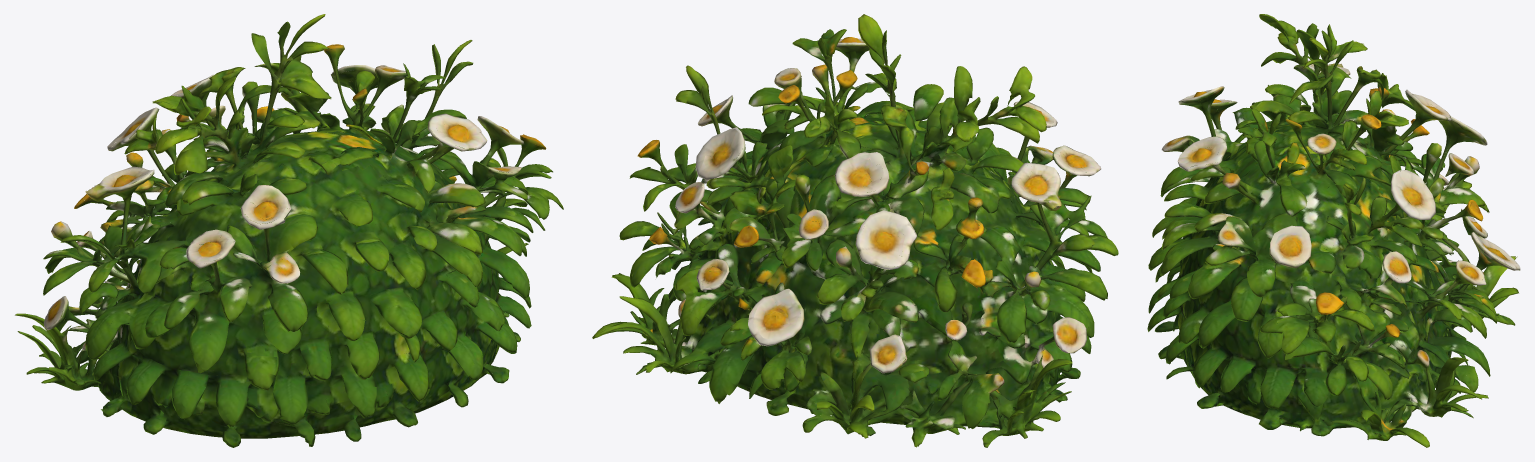
The model's file is flowering-shrub.glb.
The picture shows the model from 3 angles, left to right: view 1: azimuth 30°, elevation 25°; view 2: azimuth 150°, elevation 25°; view 3: azimuth 270°, elevation 25°; orthographic projection. The views are drawn at different scales.
Parts seen in each view (by area): view 1: flowering-shrub; view 2: flowering-shrub; view 3: flowering-shrub.
Boxes of the visible parts, x1=… form: flowering-shrub: x1=15, y1=14, x2=563, y2=447; flowering-shrub: x1=592, y1=14, x2=1118, y2=447; flowering-shrub: x1=1147, y1=14, x2=1520, y2=447.
Size of the model in its own units: 1.26 by 0.85 by 0.8956.
Materials: 1 (1 with a texture image).
